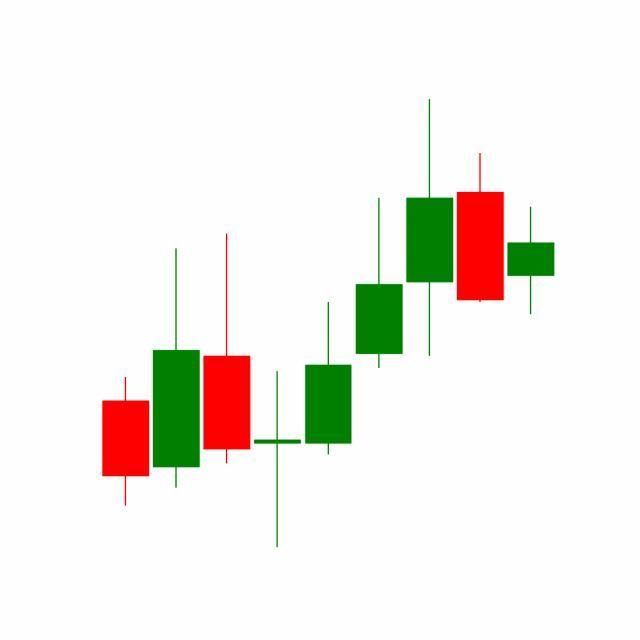Hikkake Pattern: (302, 100, 555, 461)
